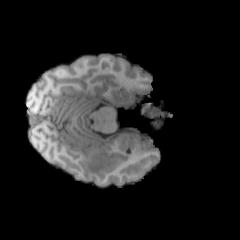glioma: (78, 144, 125, 174)
